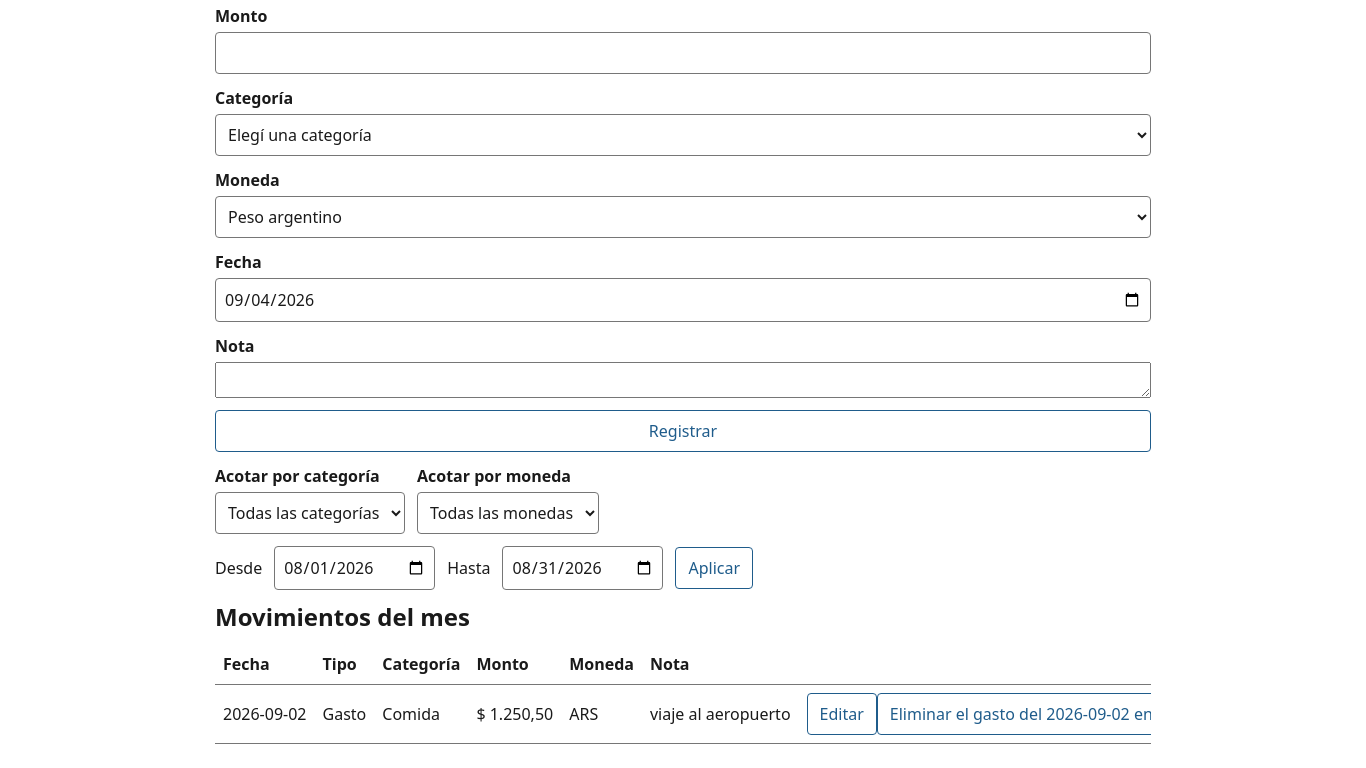
Scenario: VentanaDeEdicion › avisa a la pantalla cuando se cierra
(page scrolled)
Expected: the table named "movimientos del mes" is shown, [215,644,1151,744]
Click the button "Editar" at (842, 714), box [807,693,877,735]
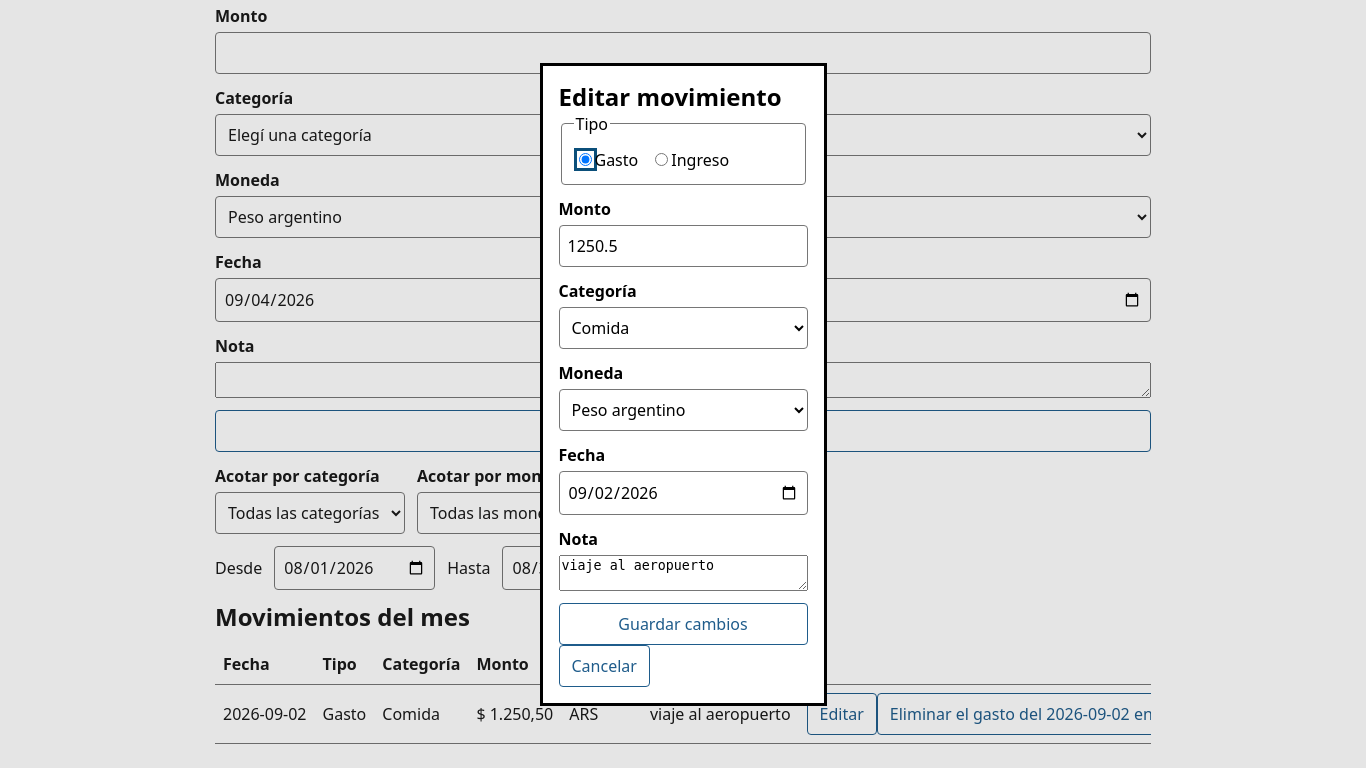
Now the dialog is shown, box [540,62,826,706]
Click the button "Cancelar" at (604, 666), box [558,644,650,686]
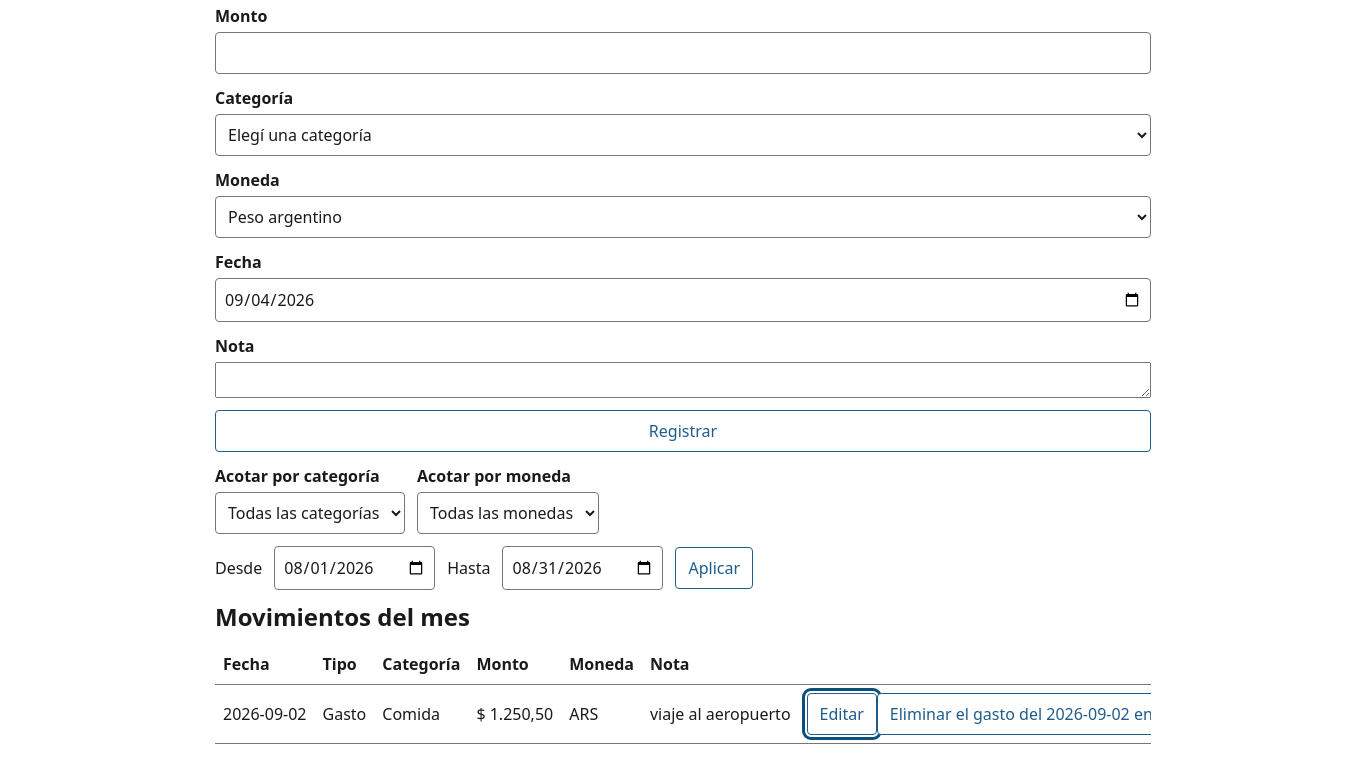
Now the dialog is gone
